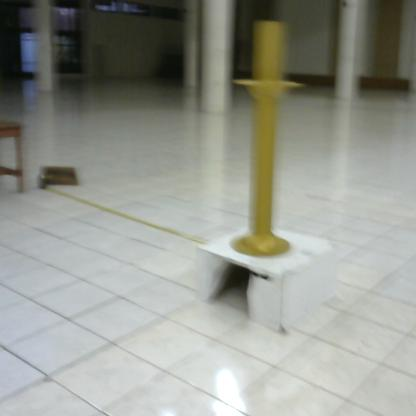pole: (227, 15, 318, 266)
